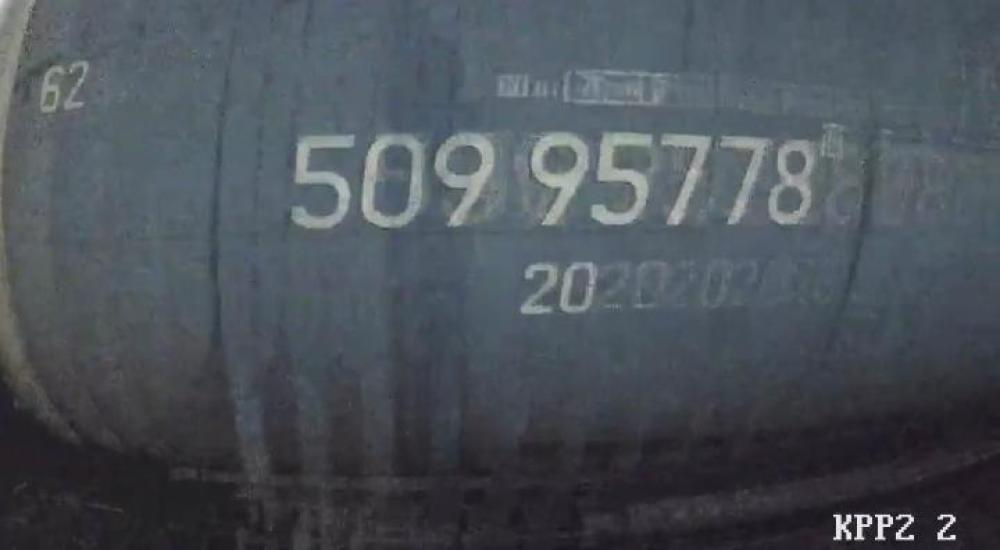Wagon-number: (282, 123, 820, 233)
